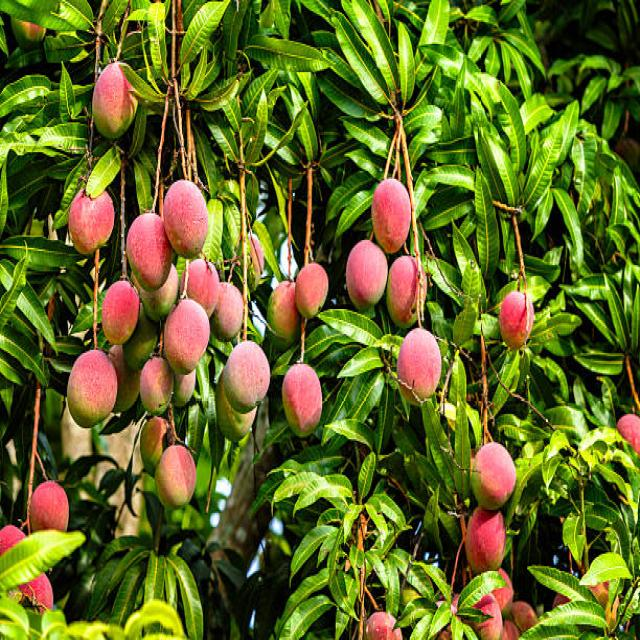mango: (66, 349, 118, 428), (126, 214, 172, 291), (92, 62, 138, 138), (164, 298, 210, 374), (164, 298, 210, 374), (222, 341, 270, 413), (164, 180, 208, 258), (398, 328, 441, 403), (470, 442, 516, 509), (371, 178, 411, 253), (346, 240, 388, 310), (69, 189, 114, 254), (282, 364, 322, 436), (215, 373, 256, 442), (466, 506, 506, 573), (155, 444, 196, 507), (101, 281, 140, 344), (139, 264, 179, 322), (386, 255, 418, 327), (266, 281, 301, 342), (499, 291, 534, 351), (140, 356, 174, 415), (30, 482, 69, 532), (295, 262, 329, 318), (140, 416, 169, 475), (188, 262, 219, 316), (19, 574, 54, 610), (0, 525, 26, 554), (422, 266, 428, 307)
